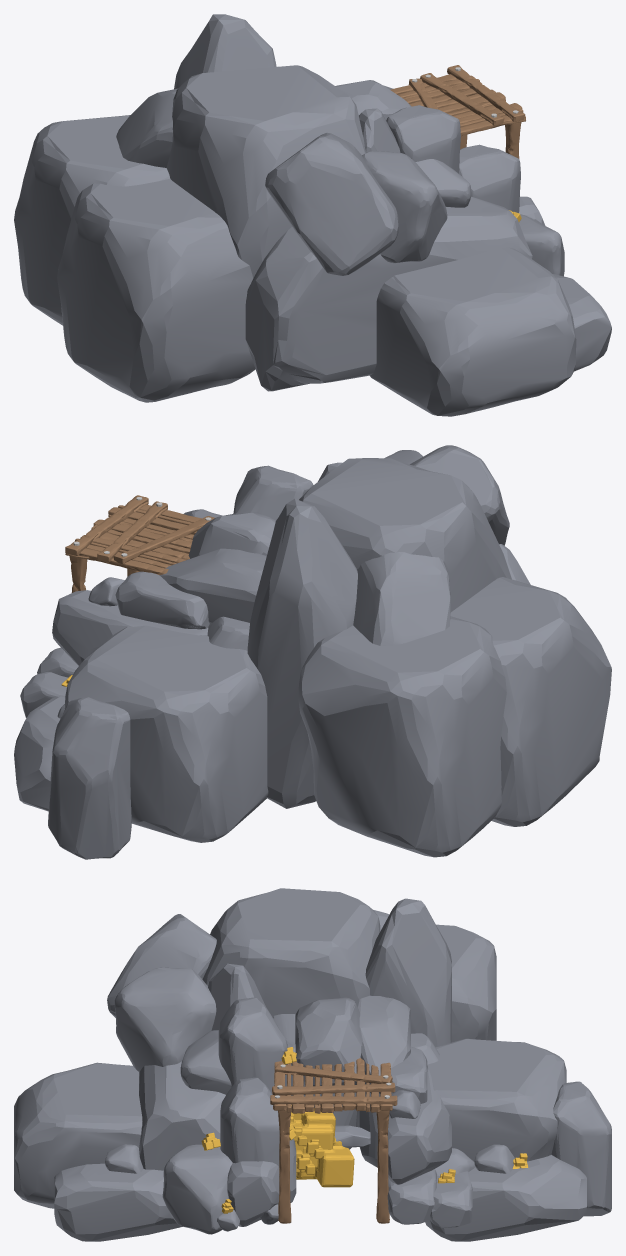
Rendered from Mine.fbx.
3 views of the same model, one above another, from view 1: azimuth 30°, elevation 25°; view 2: azimuth 150°, elevation 25°; view 3: azimuth 270°, elevation 25° (orthographic). The views are drawn at different scales.
Visible parts, largest first — view 1: Rock_space.038, Rock_space.027, Rock_space.014, Rock_space.019, Rock_space.036, Rock_space.021, Rock_space.020, Rock_space.018, Rock_space.017, Rock_space.037, Rock_space, Rock_space.028 (+6 smaller); view 2: Rock_space.036, Rock_space.030, Rock_space.038, Rock_space.018, Rock_space.014, Rock_space.033, Rock_space.037, Rock_space.015, Rock_space.009, Rock_space.007, Rock_space.031, Rock_space.021 (+10 smaller); view 3: Rock_space.014, Rock_space.030, Rock_space.027, Rock_space.018, Rock_space.031, Rock_space.020, Rock_space.028, Rock_space.019, Rock_space.033, Rock_space.036, Rock_space.004, Rock_space.017 (+24 smaller).
Boxes of the visible parts, box(x1,y1,x2,y2) form: Rock_space.038: box(57, 179, 255, 402); Rock_space.027: box(369, 247, 576, 416); Rock_space.014: box(166, 65, 365, 278); Rock_space.019: box(245, 196, 532, 391); Rock_space.036: box(14, 115, 170, 325); Rock_space.021: box(265, 132, 398, 275); Rock_space.020: box(362, 151, 447, 263); Rock_space.018: box(174, 14, 276, 89); Rock_space.017: box(386, 105, 460, 173); Rock_space.037: box(116, 88, 177, 167); Rock_space: box(459, 144, 520, 212); Rock_space.028: box(552, 274, 611, 371); Rock_space.036: box(298, 616, 506, 857); Rock_space.030: box(64, 625, 268, 842); Rock_space.038: box(450, 577, 611, 826); Rock_space.018: box(247, 498, 357, 808); Rock_space.014: box(299, 458, 511, 611); Rock_space.033: box(48, 697, 131, 859); Rock_space.037: box(353, 552, 450, 645); Rock_space.015: box(159, 548, 266, 623); Rock_space.009: box(52, 590, 208, 665); Rock_space.007: box(115, 571, 209, 629); Rock_space.031: box(14, 696, 65, 811); Rock_space.021: box(410, 445, 509, 545); Rock_space.014: box(202, 888, 380, 1149); Rock_space.030: box(427, 1038, 566, 1161); Rock_space.027: box(14, 1062, 142, 1208); Rock_space.018: box(355, 898, 451, 1167); Rock_space.031: box(425, 1155, 586, 1241); Rock_space.020: box(114, 967, 216, 1071); Rock_space.028: box(54, 1163, 182, 1241); Rock_space.019: box(139, 1061, 225, 1170); Rock_space.033: box(551, 1081, 611, 1216); Rock_space.036: box(436, 924, 496, 1042); Rock_space.004: box(162, 1144, 232, 1234); Rock_space.017: box(218, 997, 287, 1094).
Size of the model in its own units: 1351 by 855 by 1734.
